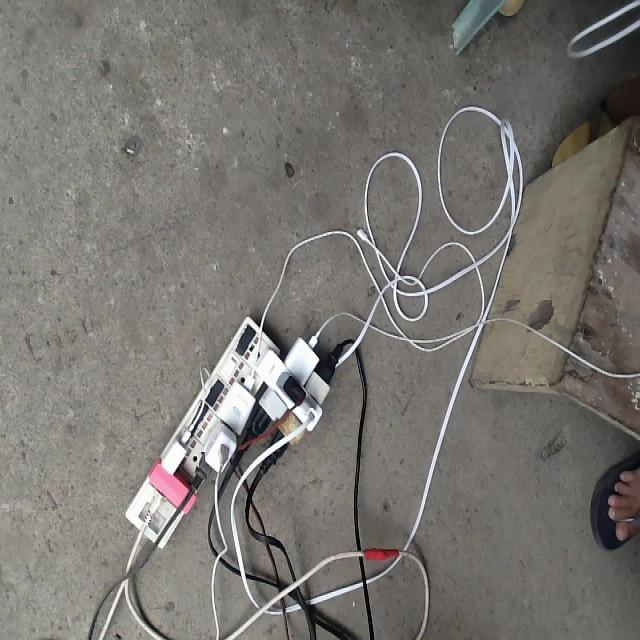-: (124, 316, 333, 552)
